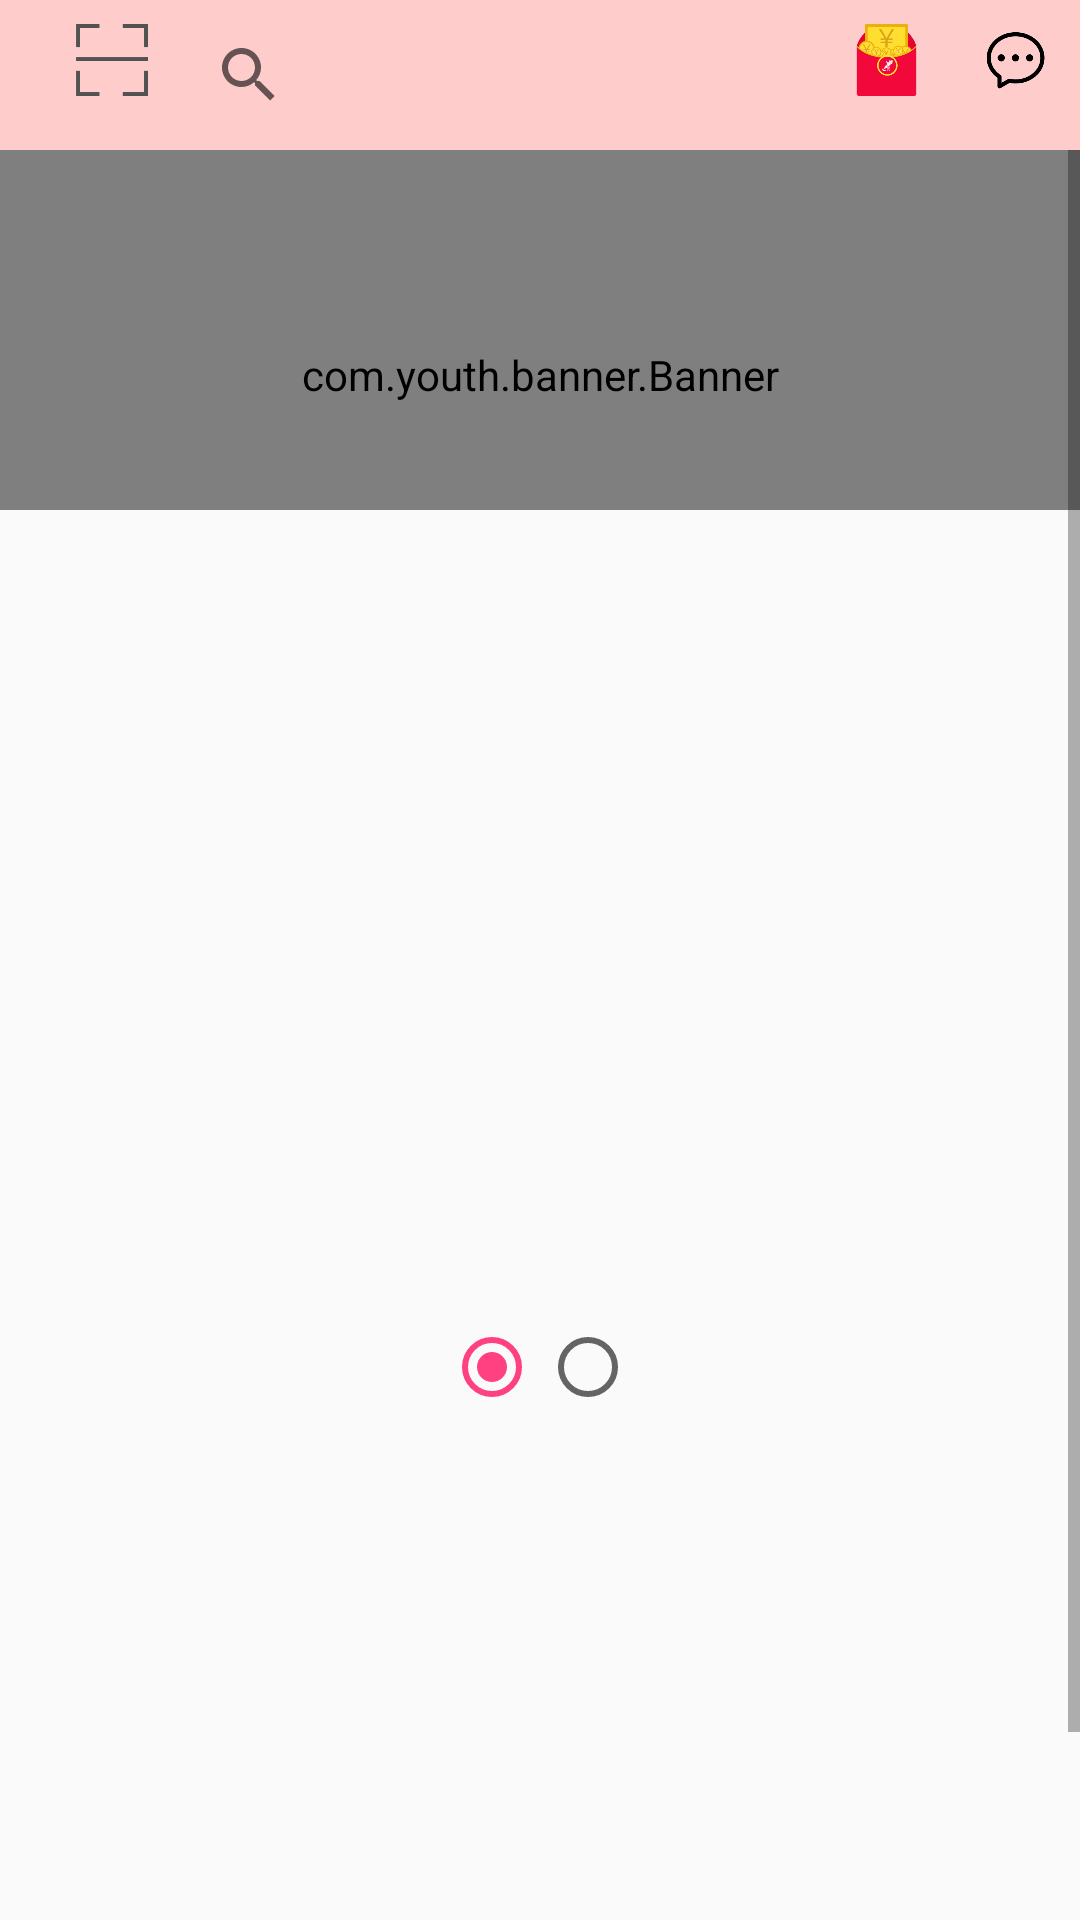

Named icons in this screenshot (1080x1920) and their bounding boxes, (x1, y1, x2, y2):
erweima: (76, 24, 148, 96)
message: (987, 32, 1045, 89)
redbag: (856, 24, 917, 96)
